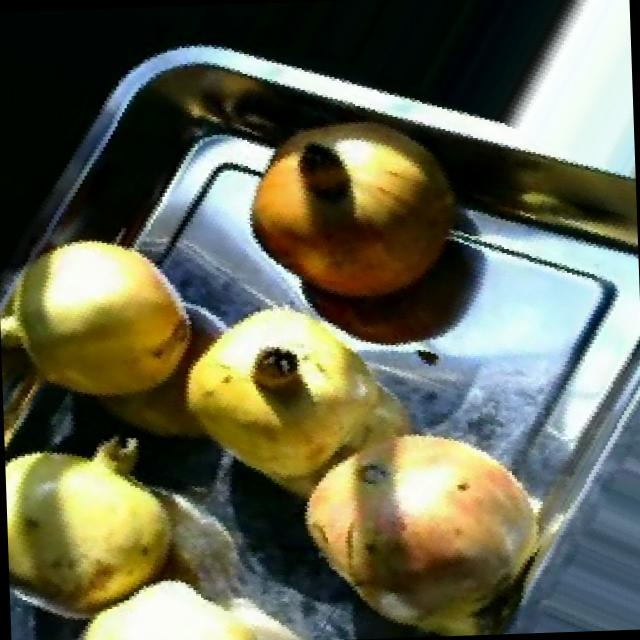fruit: (283, 393, 571, 640), (214, 86, 492, 340), (154, 268, 418, 510), (0, 203, 227, 435), (3, 412, 212, 640)
